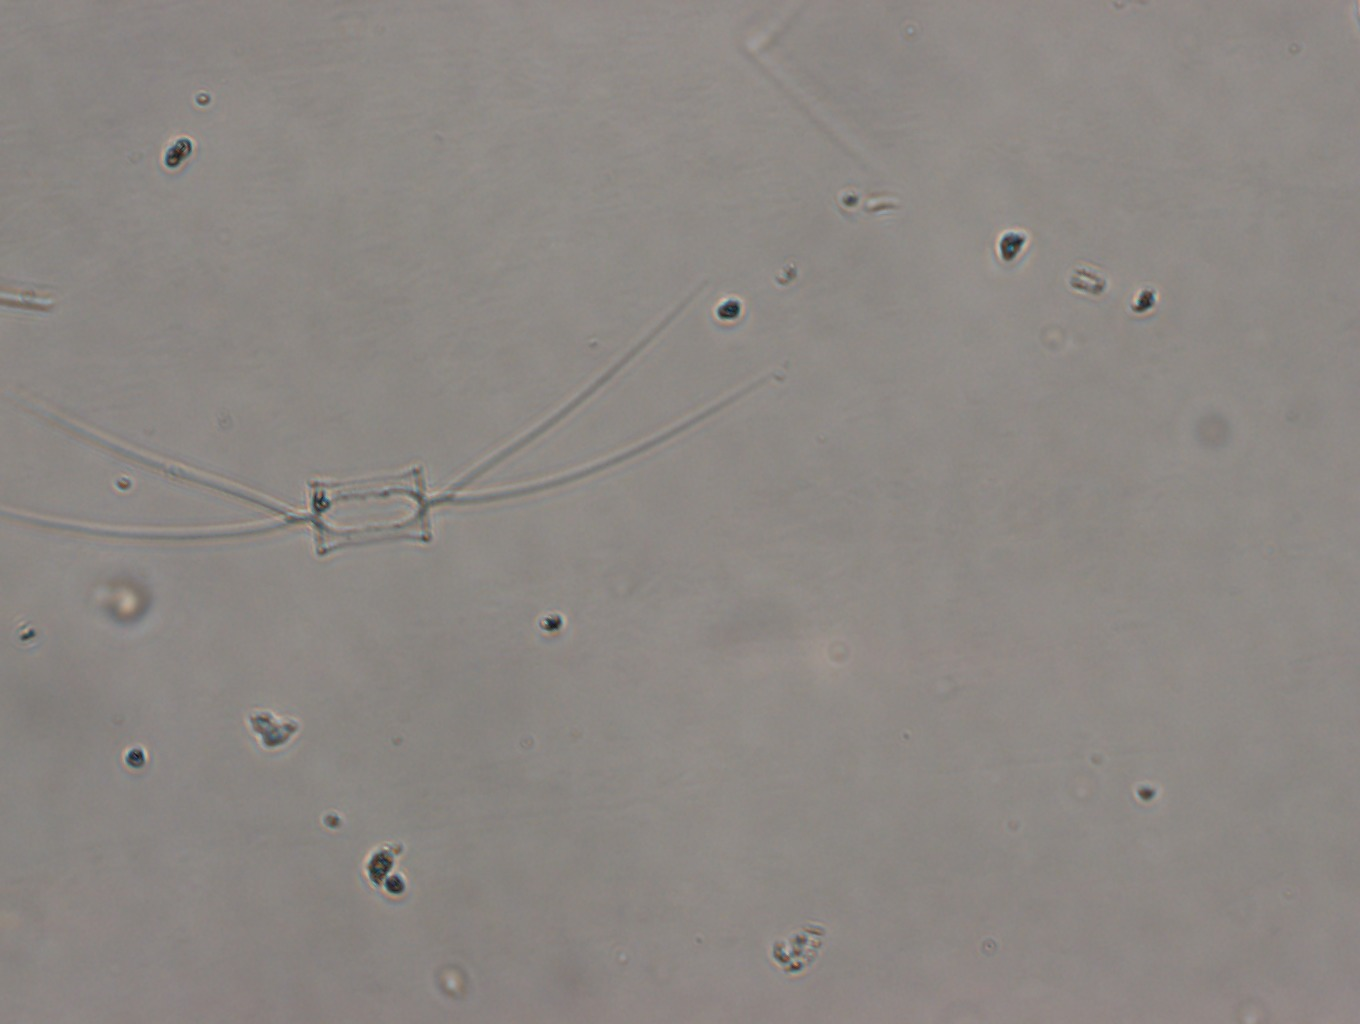chaetoceros: (1, 279, 777, 561)
